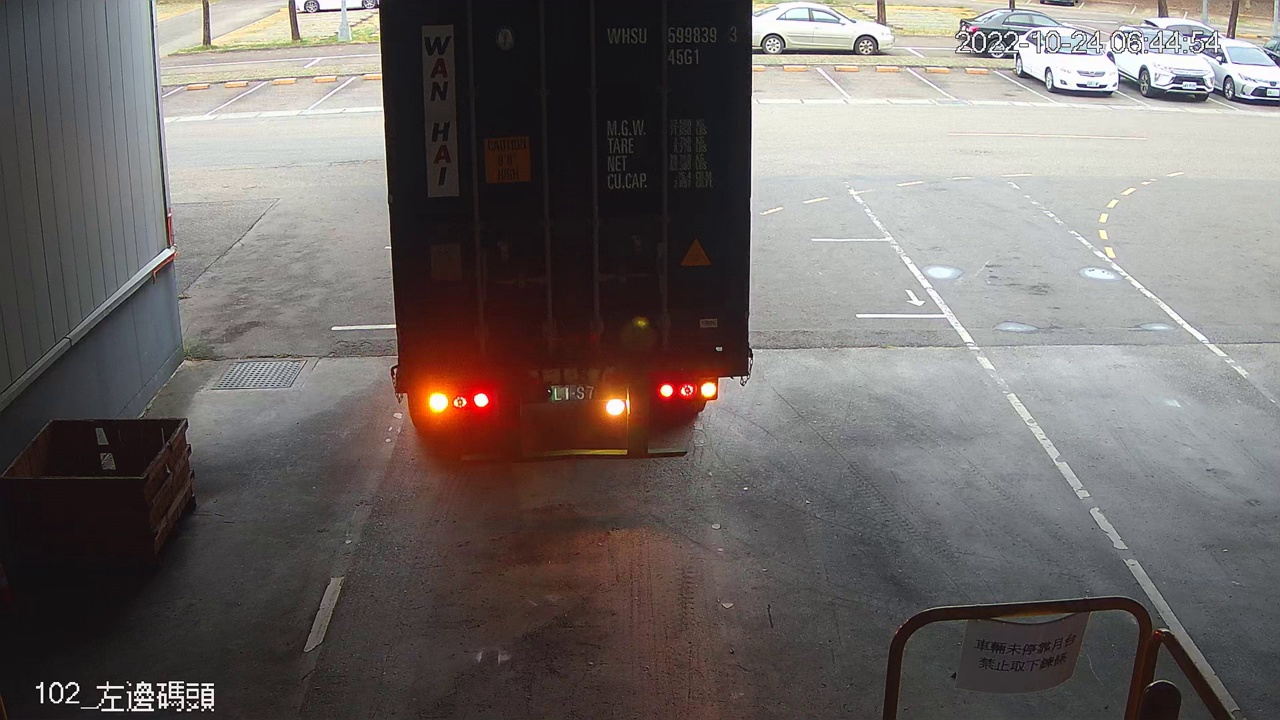container: (600, 17, 744, 75)
